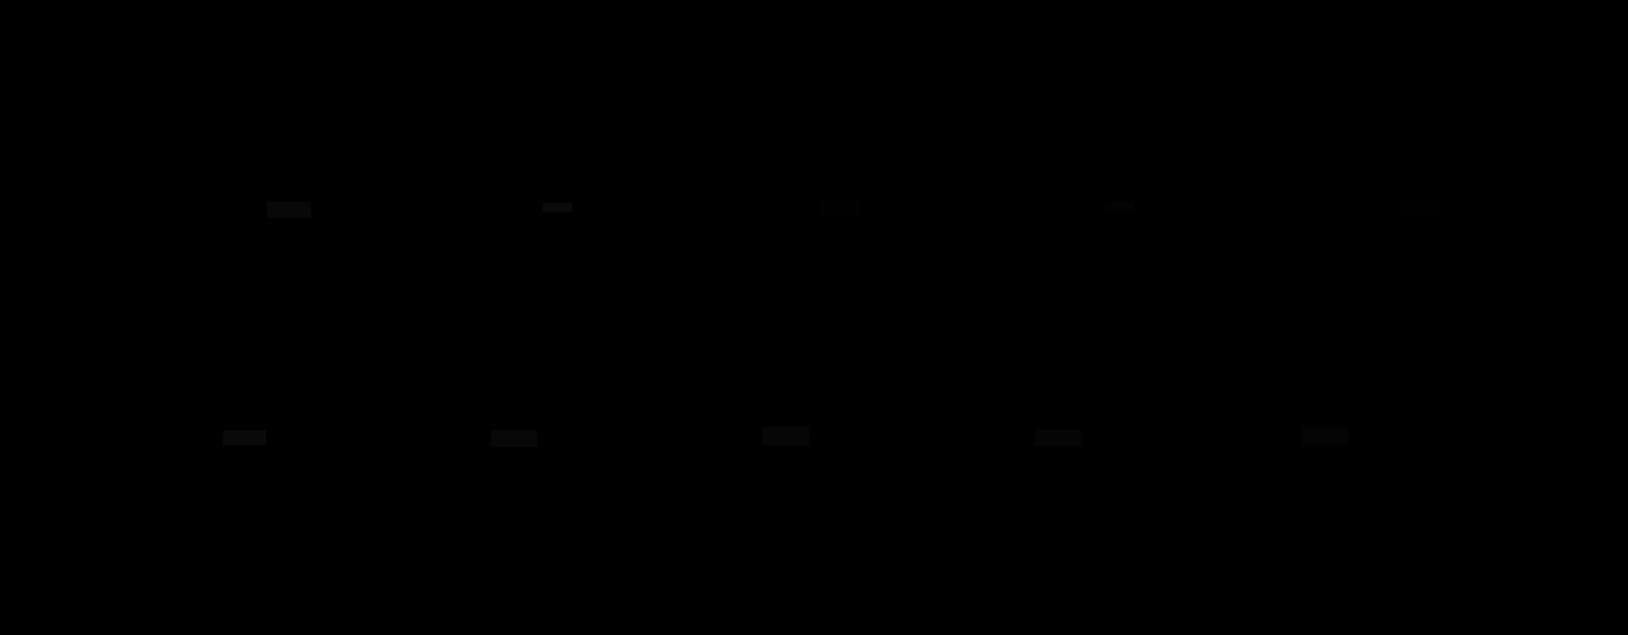light: (1302, 427, 1349, 445), (762, 427, 809, 445), (1035, 429, 1081, 446), (491, 430, 537, 447), (267, 202, 311, 218), (223, 430, 266, 445), (1398, 199, 1439, 215), (820, 200, 861, 216), (1105, 202, 1134, 211), (543, 203, 572, 212)
